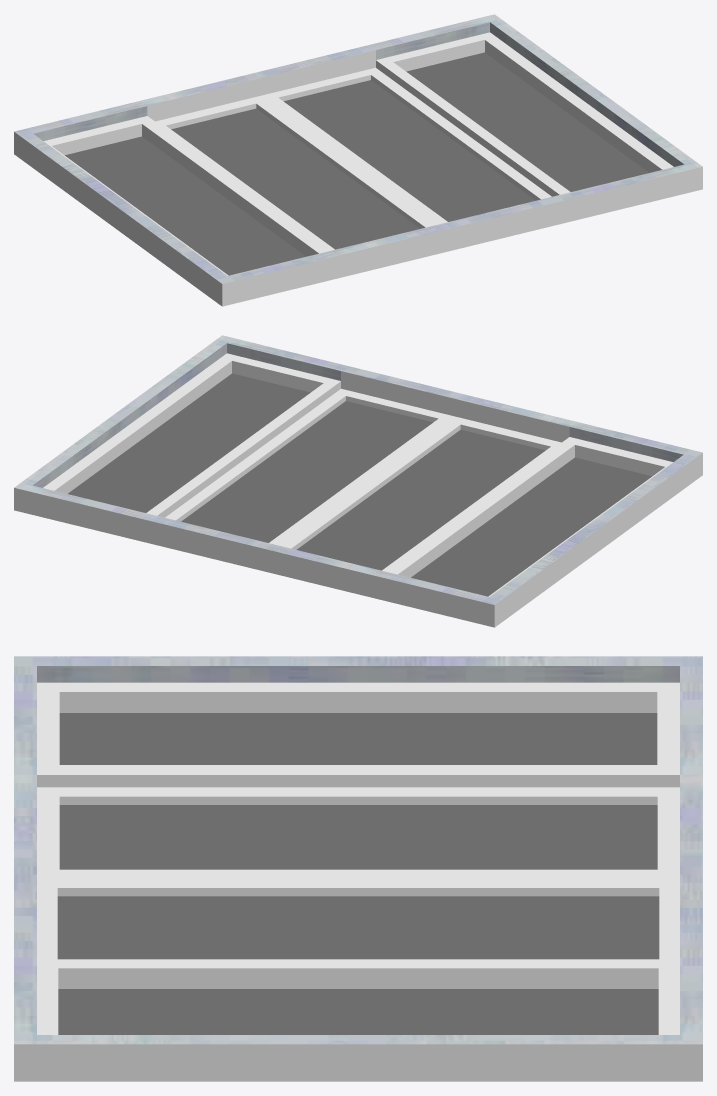
File: janelas.obj
3 renders of one model, top to bottom at view 1: azimuth 30°, elevation 25°; view 2: azimuth 150°, elevation 25°; view 3: azimuth 270°, elevation 25°, orthographic. The views are drawn at different scales.
Parts seen in each view (by area): view 1: Mesh1 Componente_4_1 Componente_1_1 Model; view 2: Mesh1 Componente_4_1 Componente_1_1 Model; view 3: Mesh1 Componente_4_1 Componente_1_1 Model.
Boxes of the visible parts, box(x1,y1,x2,y2) form: Mesh1 Componente_4_1 Componente_1_1 Model: box(14, 14, 702, 306); Mesh1 Componente_4_1 Componente_1_1 Model: box(14, 335, 702, 627); Mesh1 Componente_4_1 Componente_1_1 Model: box(14, 656, 702, 1081).
Bounding box in the file's own units: 78.7 × 3.54 × 59.06.
